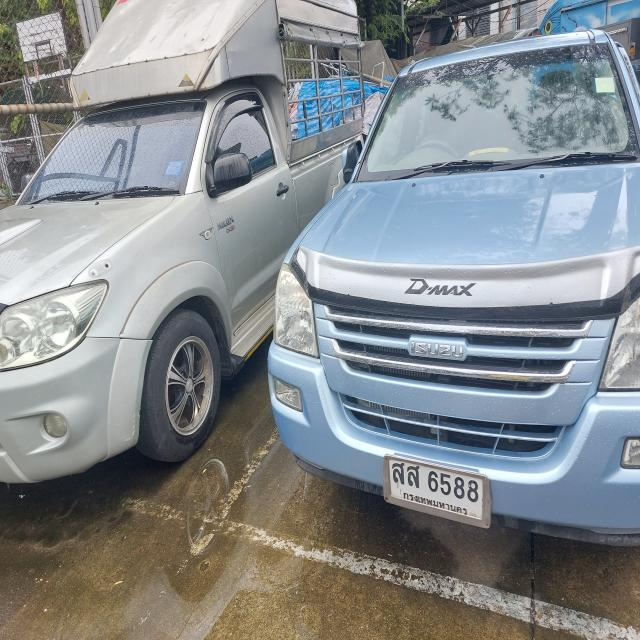license_plate: (382, 451, 492, 530)
